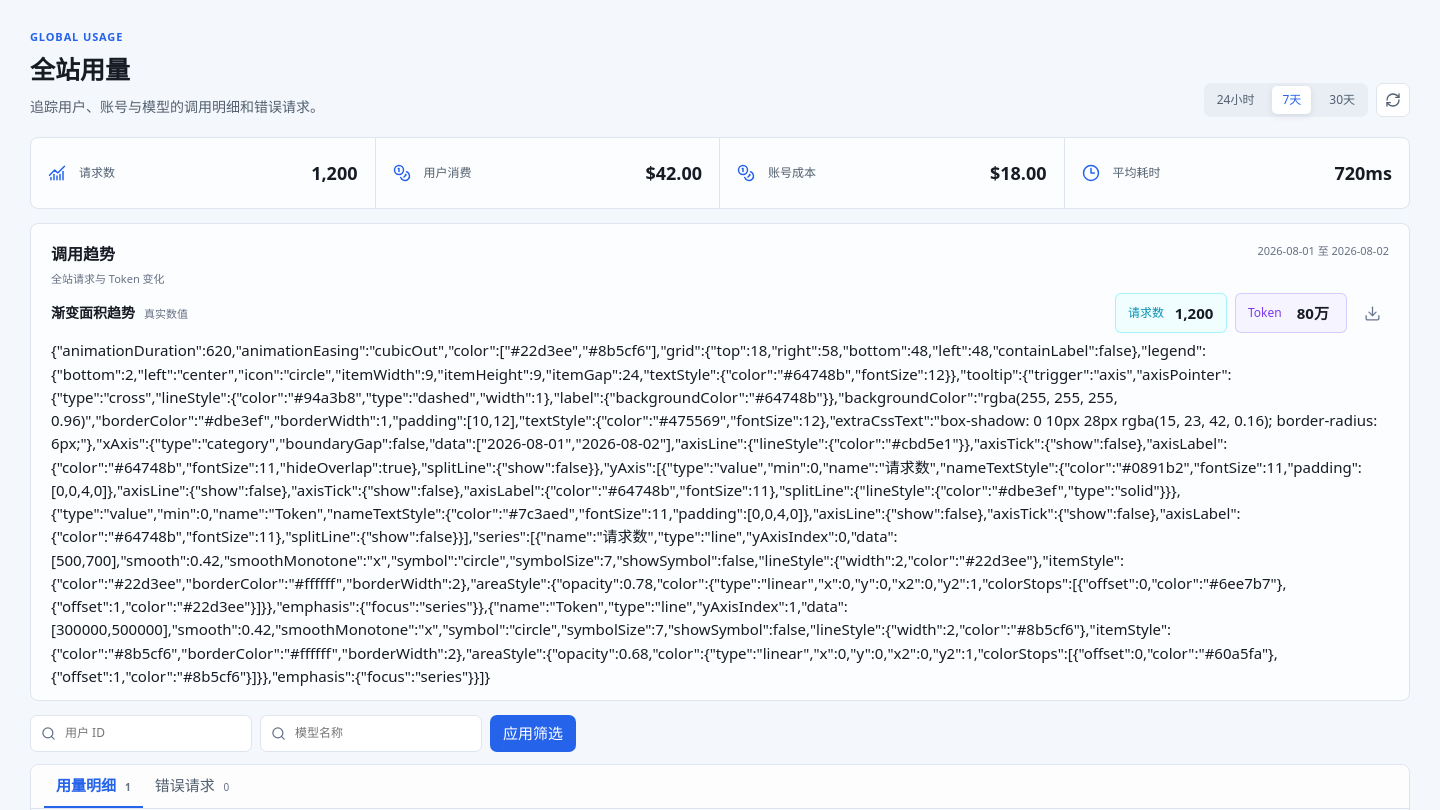
it: AdminUsageView › filters by user and opens error details
In the field with test id "usage-user-filter": (152, 734) top-left (63, 723), bottom-right (241, 744), type "7"
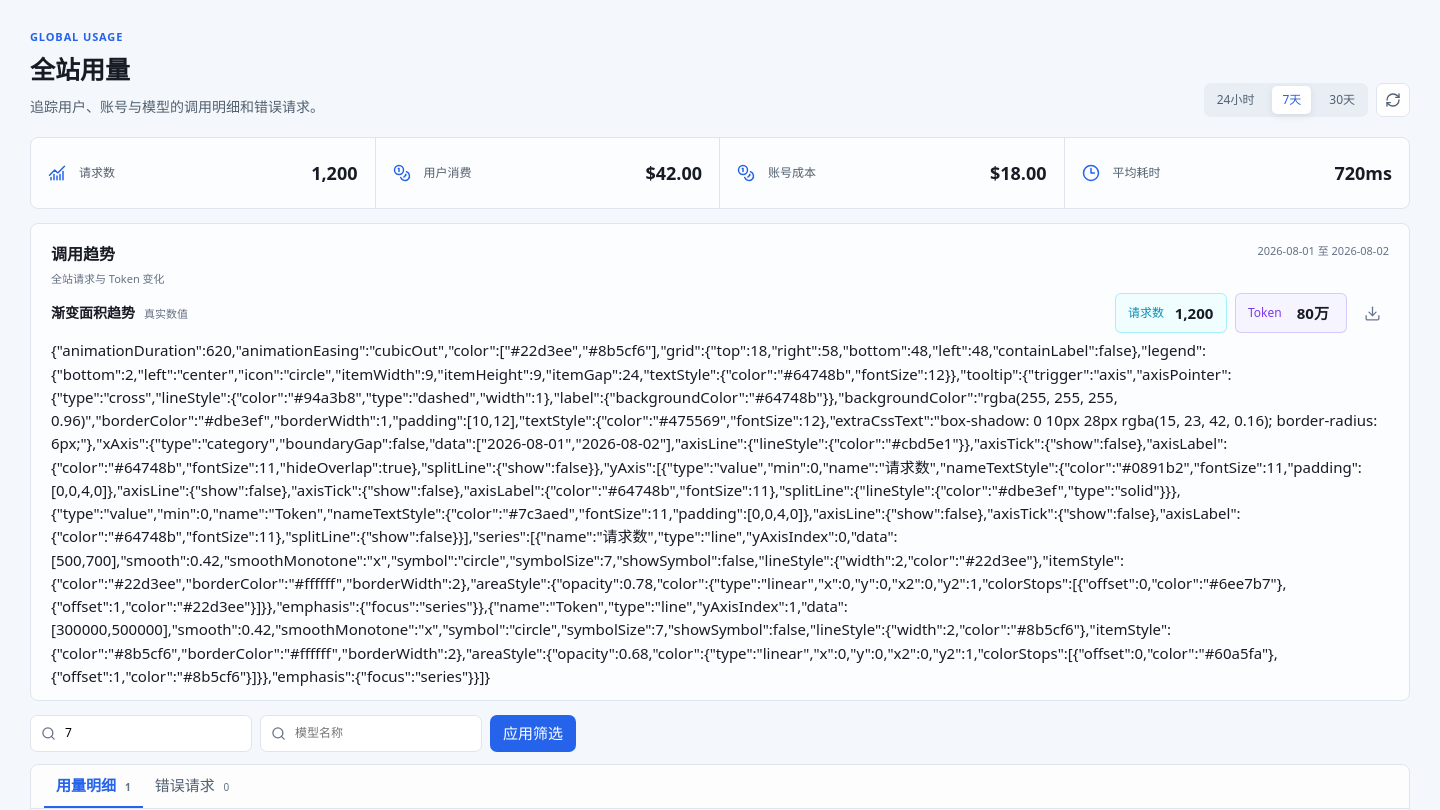
Submit the form with test id "usage-filters", box top-left (30, 715), bottom-right (576, 752)
Click the button with test id "usage-errors-tab": (192, 787) top-left (143, 765), bottom-right (241, 808)
(page scrolled)
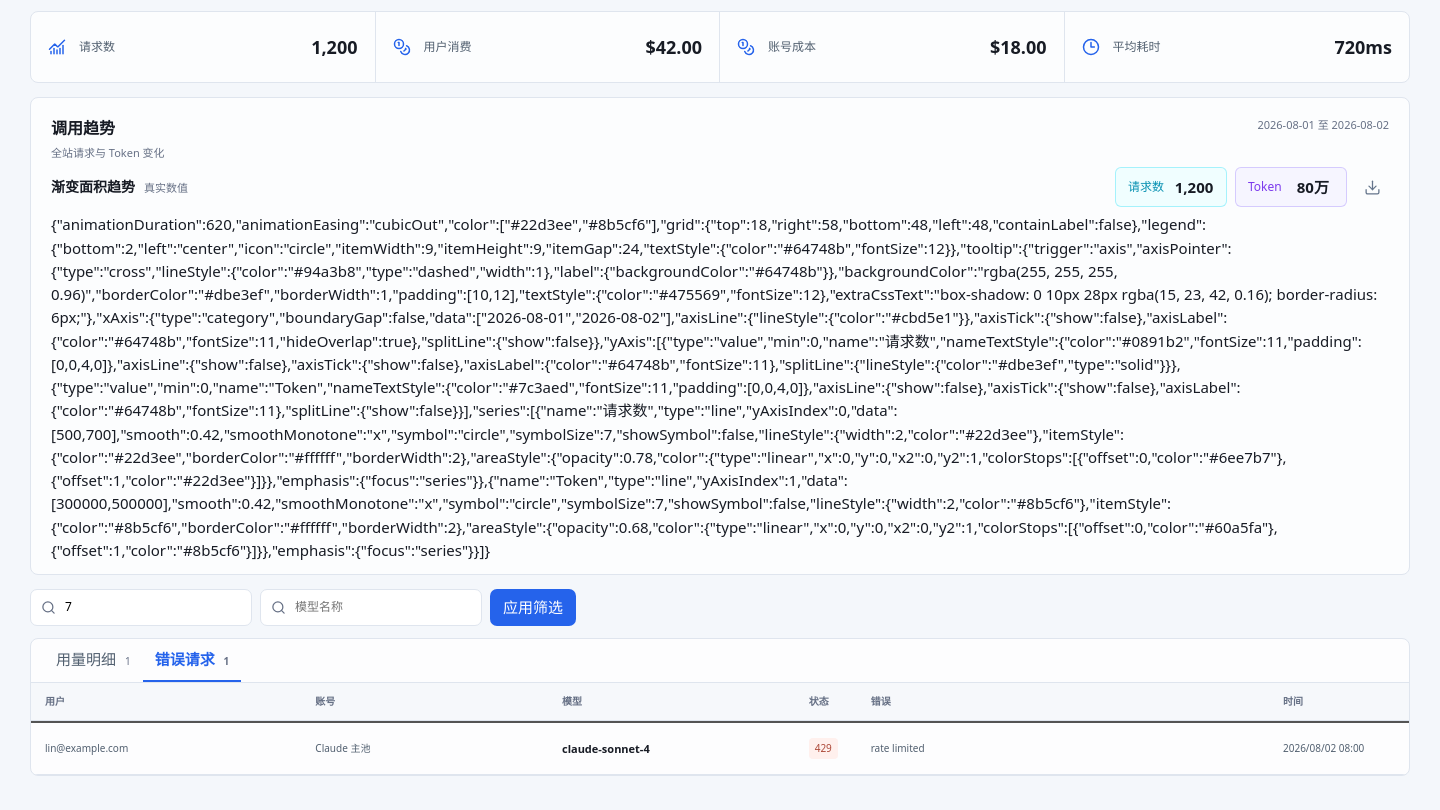
Result: the text "rate limited" is shown at top-left (871, 741), bottom-right (925, 755)
Click the button with test id "usage-error-9": (87, 748) top-left (31, 721), bottom-right (1409, 775)
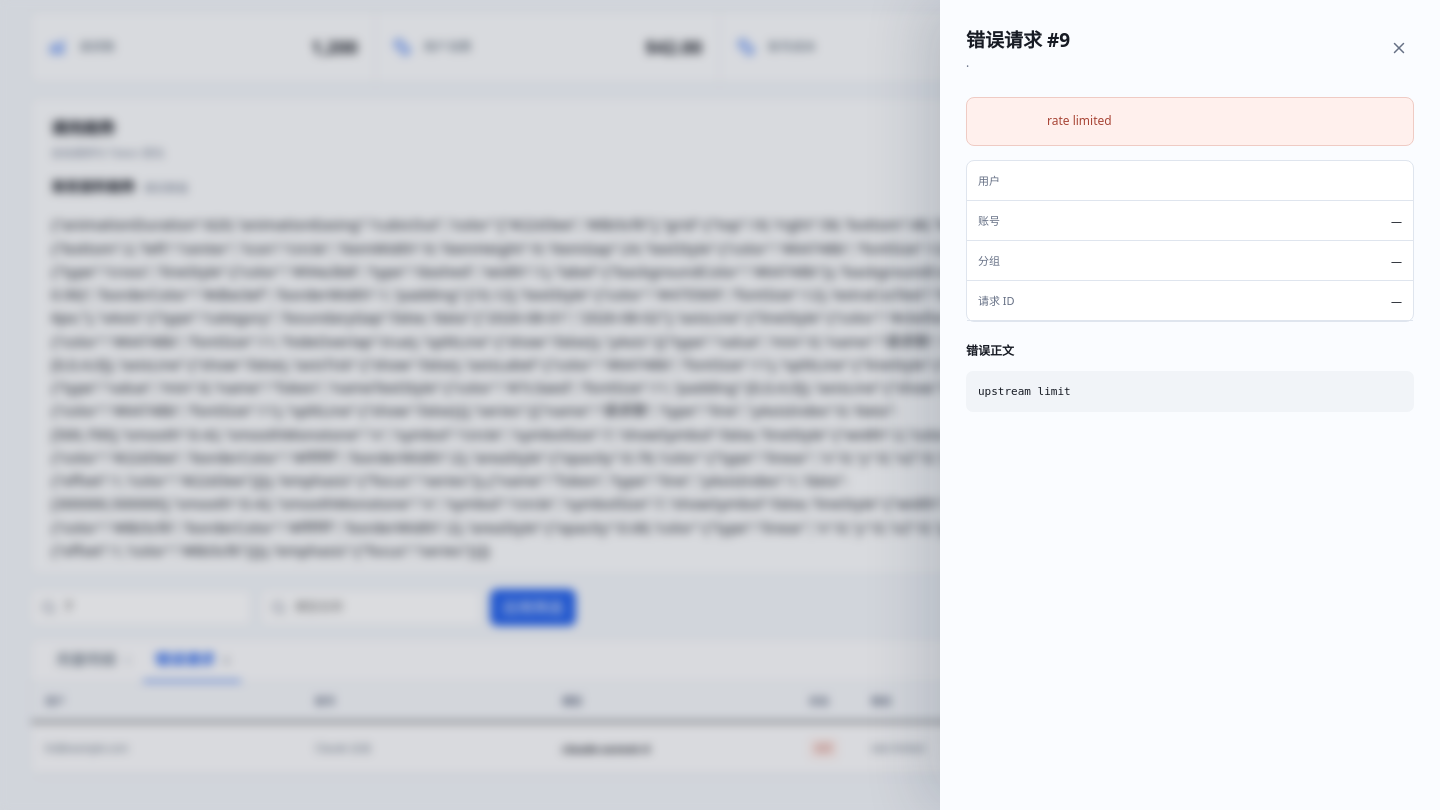
Result: the element with test id "usage-error-detail" shows "upstream limit" at top-left (978, 385), bottom-right (1071, 398)
